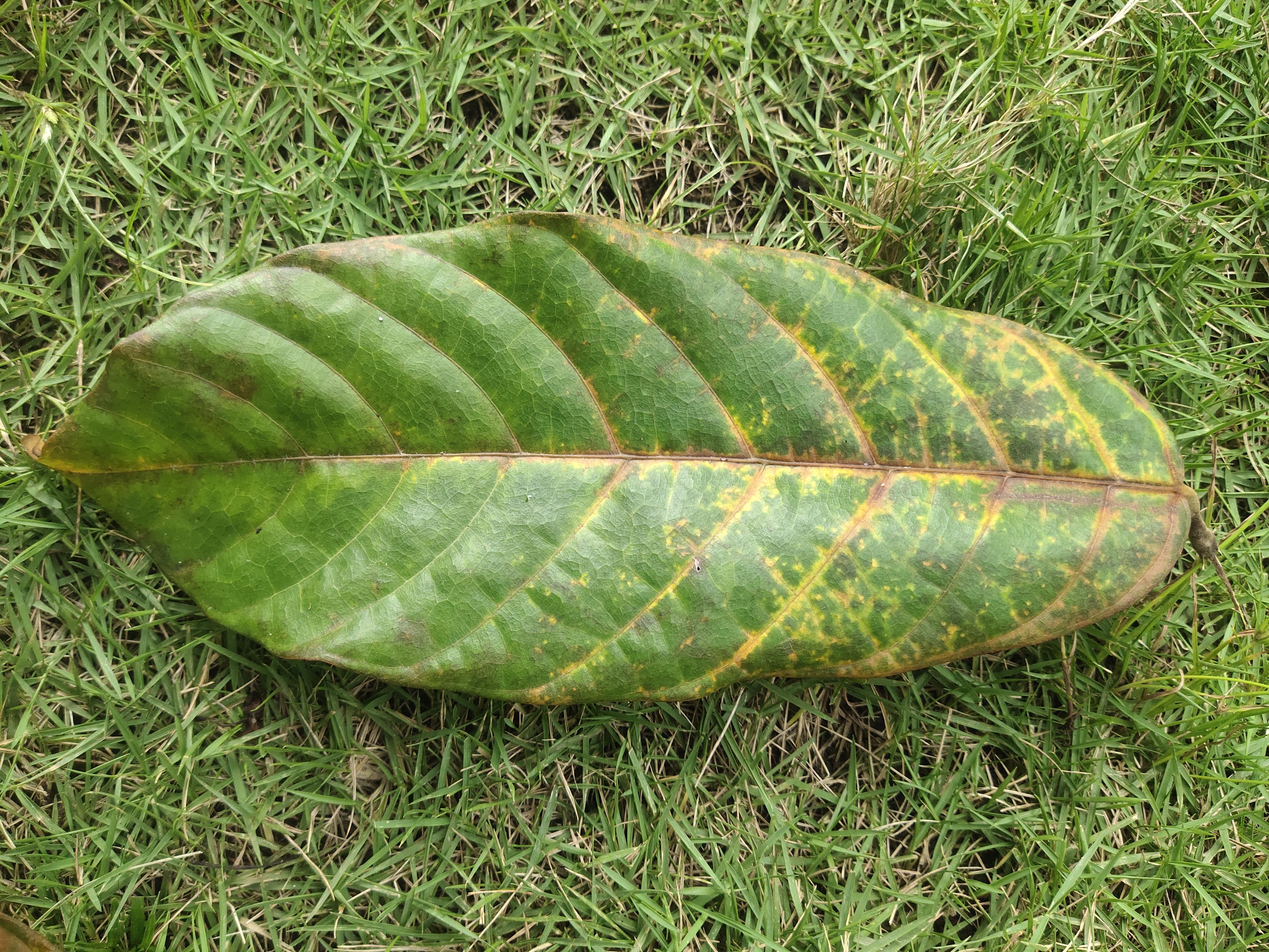deficiencia_potasio: (25, 216, 1164, 695)
